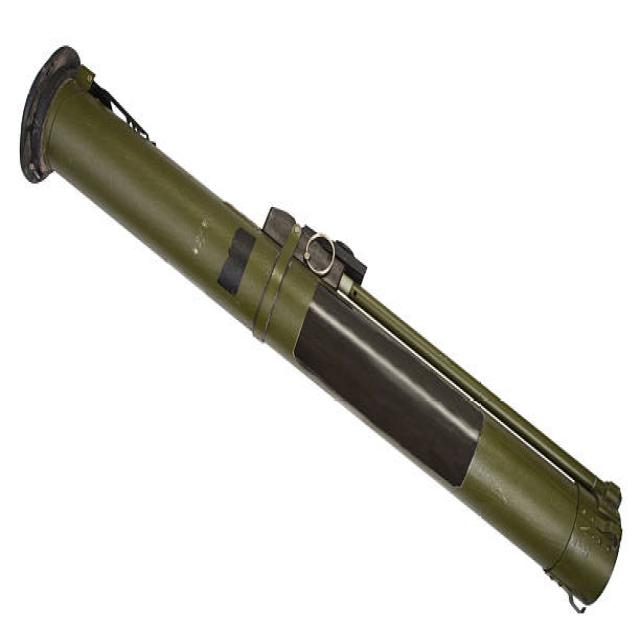bazooka: (19, 40, 624, 621)
